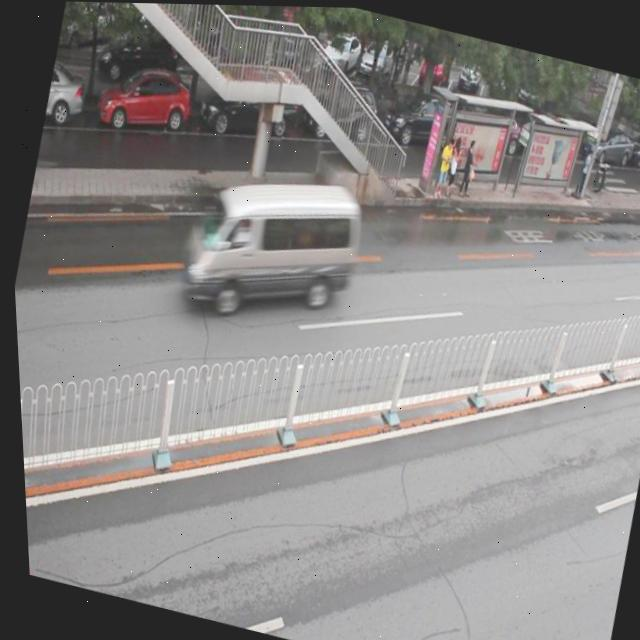car: (192, 60, 301, 151), (90, 56, 196, 146), (374, 79, 466, 158), (297, 73, 381, 149), (39, 66, 88, 135)
truck: (168, 152, 367, 336)
